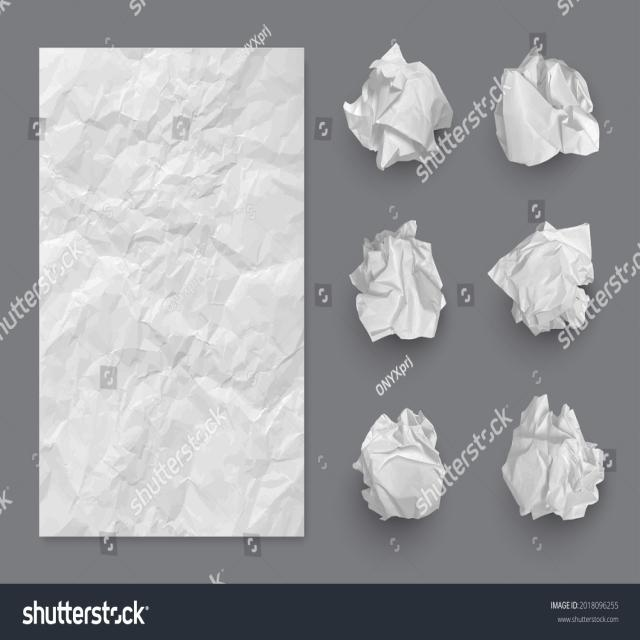Paper: (37, 46, 305, 542), (501, 394, 613, 524), (345, 44, 454, 169), (489, 221, 596, 345), (494, 42, 599, 168), (350, 223, 445, 343), (354, 411, 453, 522)
